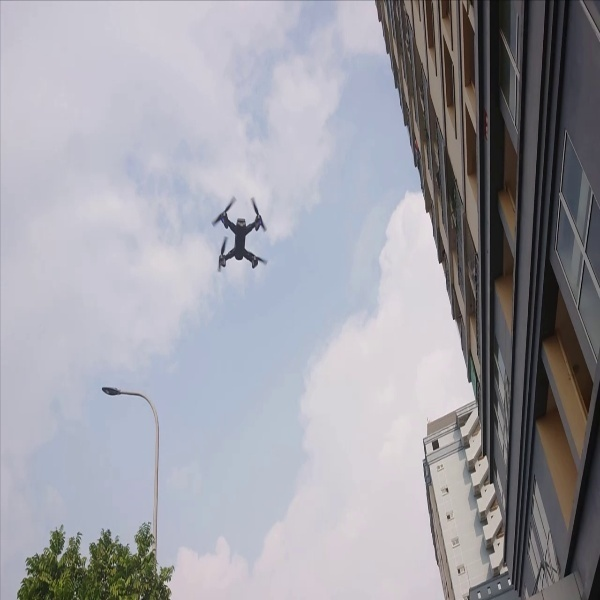drone: (203, 189, 281, 276)
